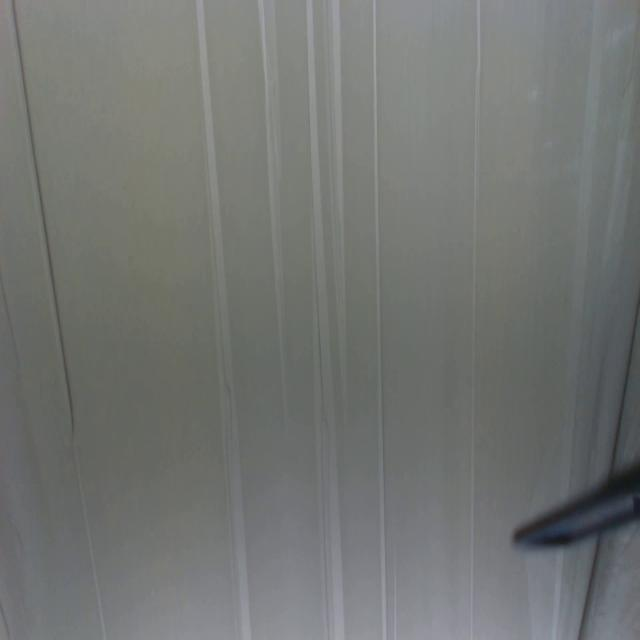crease: (9, 0, 108, 640), (193, 1, 252, 640), (304, 0, 349, 640), (257, 0, 291, 426), (370, 0, 390, 640), (467, 0, 483, 639), (606, 294, 640, 468), (571, 535, 606, 640), (0, 259, 22, 367), (391, 553, 399, 640)
